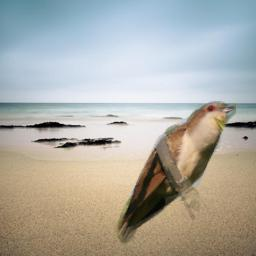Cuckoo: (112, 101, 236, 247)
